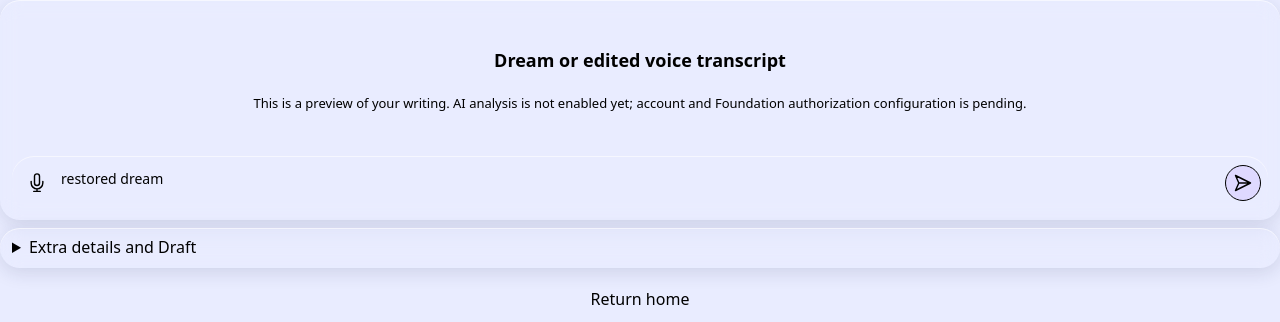
Test case: explains that analysis is unavailable when a valid dream is submitted without a provider
This screenshot has width=1280, height=322.
Click the button named "Send".
click(1243, 183)  # box [1225,165,1261,201]
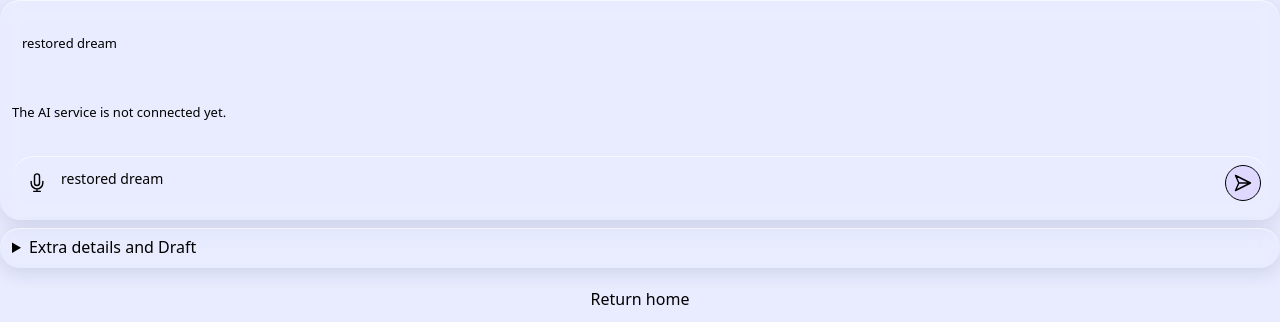
Result: the message "The AI service is not connected yet." is shown at [12,105,226,122]
